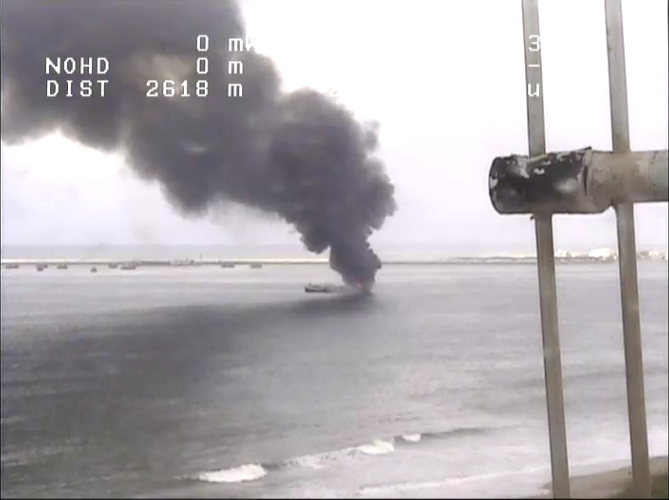FIRE_ONBOARD: (173, 121, 434, 330)
FISHING_VESSEL: (298, 275, 381, 304)
